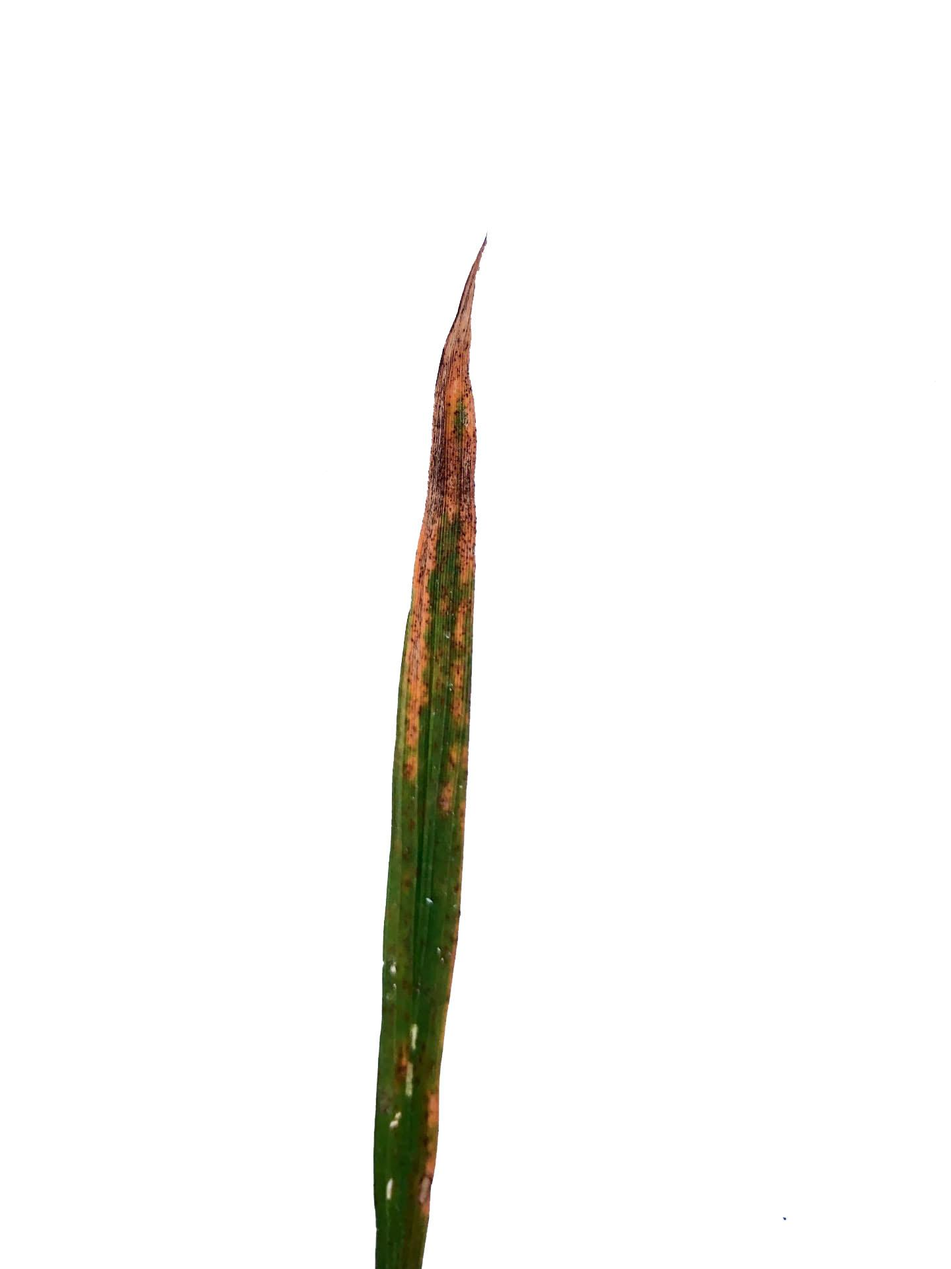Tungro: (373, 266, 478, 1269)
